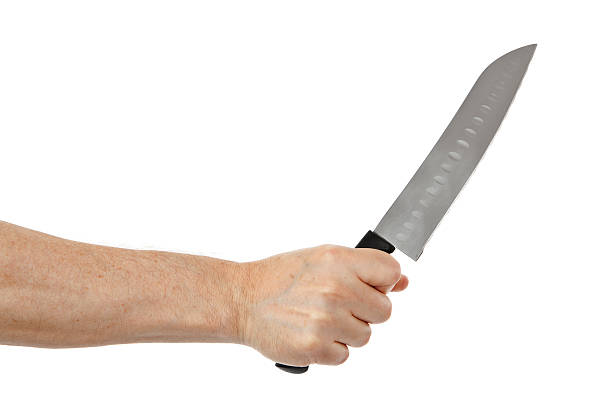knife: (274, 42, 540, 376)
